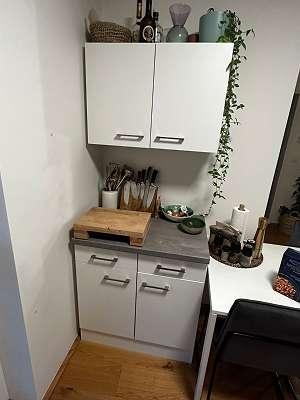cabinet_door: (155, 43, 224, 151), (91, 47, 155, 148), (136, 280, 199, 343), (77, 271, 136, 338), (138, 254, 205, 279), (76, 248, 136, 268)
handle: (156, 262, 187, 276), (91, 253, 119, 268), (154, 133, 186, 146), (113, 130, 147, 141), (141, 281, 171, 293), (102, 274, 130, 286)
